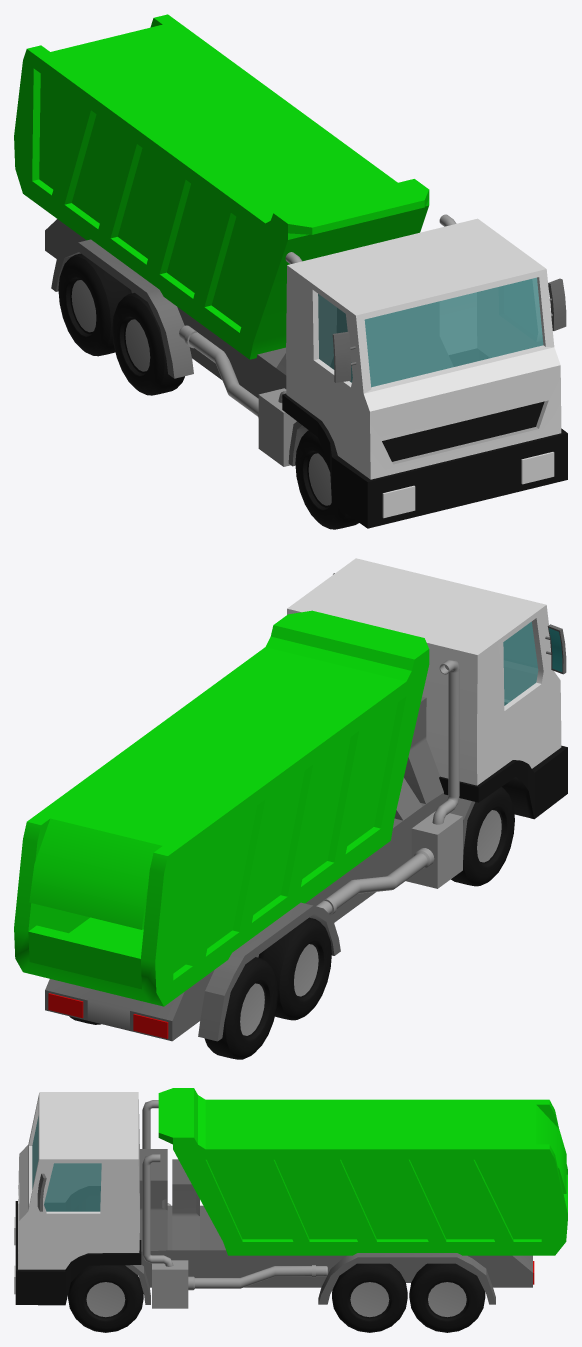
Rendered from GarbageTruck.fbx.
The picture shows the model from 3 angles, top to bottom: view 1: azimuth 30°, elevation 25°; view 2: azimuth 150°, elevation 25°; view 3: azimuth 270°, elevation 25°; orthographic projection. The views are drawn at different scales.
Parts seen in each view (by area): view 1: Backpart, Cabin, pCube1, WheelBackRight, WheelMidRight, WheelFrontRight, pCube4, pCylinder6, Mirror4, Mirror2; view 2: Backpart, Cabin, pCube1, WheelMidRight, WheelBackRight, WheelFrontRight, pCube4, pCylinder4, pCylinder6, Mirror4; view 3: Backpart, Cabin, pCube1, WheelMidLeft, WheelBackLeft, WheelFrontLeft, pCube3, pCylinder5, pCylinder3, pCylinder4.
Part boxes in pixels (x1,y1,x2,y2): Backpart: [14, 14, 429, 359]; Cabin: [282, 218, 567, 528]; pCube1: [45, 219, 308, 466]; WheelBackRight: [58, 253, 131, 356]; WheelMidRight: [112, 293, 184, 395]; WheelFrontRight: [295, 430, 358, 529]; pCube4: [258, 388, 296, 466]; pCylinder6: [179, 325, 258, 417]; Mirror4: [332, 332, 350, 382]; Mirror2: [548, 278, 566, 330]; Backpart: [14, 610, 429, 1006]; Cabin: [287, 558, 567, 819]; pCube1: [45, 696, 474, 1041]; WheelMidRight: [258, 917, 331, 1020]; WheelBackRight: [204, 957, 277, 1059]; WheelFrontRight: [451, 787, 514, 886]; pCube4: [406, 811, 462, 888]; pCylinder4: [432, 660, 459, 824]; pCylinder6: [316, 848, 434, 915]; Mirror4: [547, 624, 566, 674]; Backpart: [158, 1088, 567, 1255]; Cabin: [14, 1092, 141, 1305]; pCube1: [125, 1149, 534, 1304]; WheelMidLeft: [332, 1263, 407, 1332]; WheelBackLeft: [409, 1263, 485, 1332]; WheelFrontLeft: [68, 1265, 143, 1332]; pCube3: [152, 1260, 188, 1308]; pCylinder5: [188, 1265, 327, 1290]; pCylinder3: [142, 1154, 173, 1266]; pCylinder4: [142, 1100, 170, 1205].
Size of the model in its own units: 13.72 by 15.13 by 39.59.
